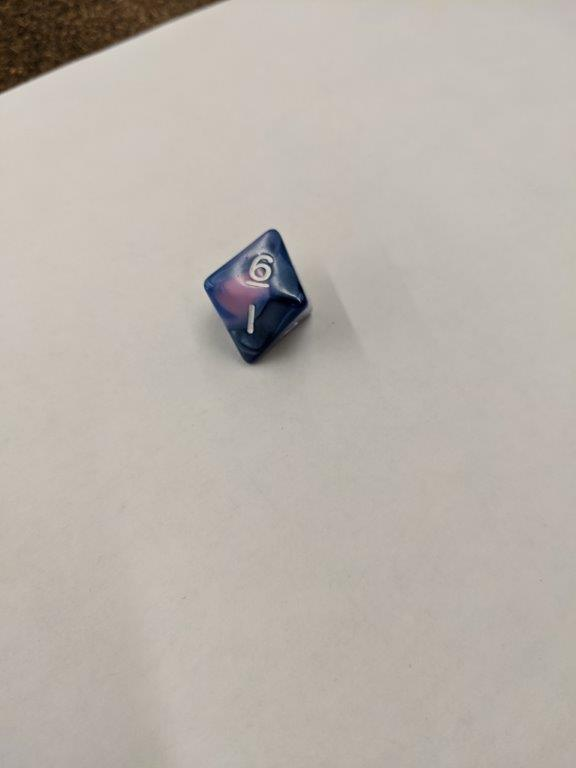d8-6: (204, 226, 309, 365)
